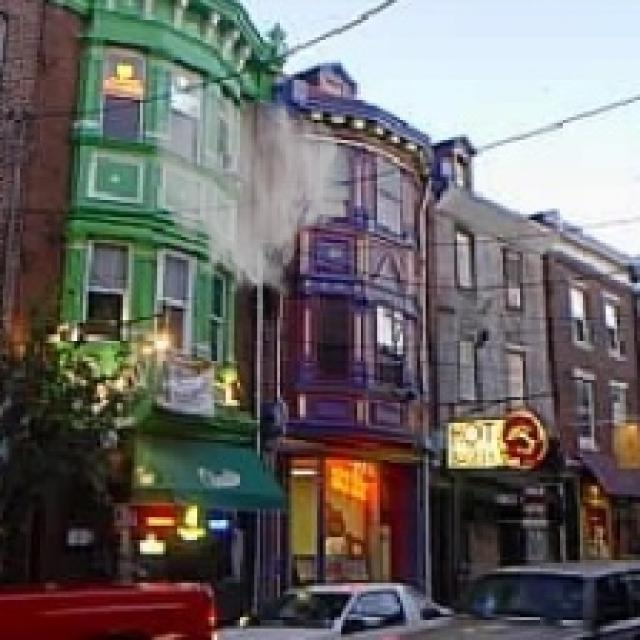Smoke: (152, 83, 354, 303)
